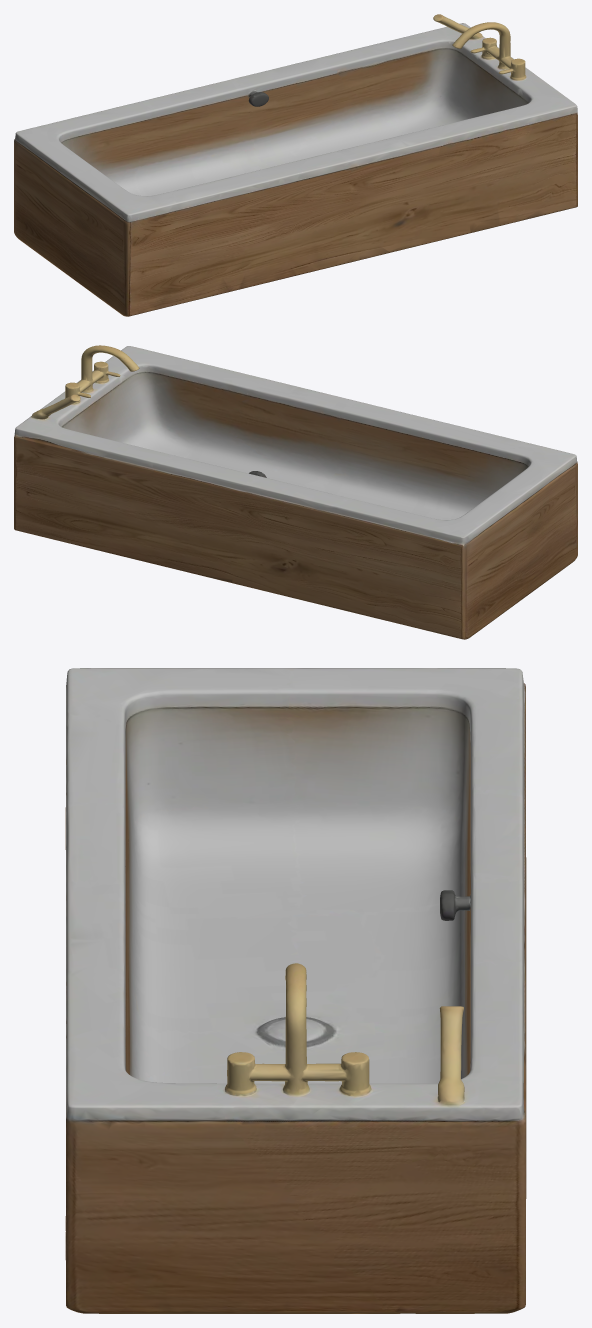
Rendered from bath.dc132078.glb.
3 views of the same model, one above another, from view 1: azimuth 30°, elevation 25°; view 2: azimuth 150°, elevation 25°; view 3: azimuth 270°, elevation 25° (orthographic). The views are drawn at different scales.
Parts seen in each view (by area): view 1: tripo_node_debad630-338a-4e0d-8b6a-e52842edcccf; view 2: tripo_node_debad630-338a-4e0d-8b6a-e52842edcccf; view 3: tripo_node_debad630-338a-4e0d-8b6a-e52842edcccf.
Boxes of the visible parts, left/top/right/bottom form: tripo_node_debad630-338a-4e0d-8b6a-e52842edcccf: left=14, top=14, right=577, bottom=316; tripo_node_debad630-338a-4e0d-8b6a-e52842edcccf: left=14, top=345, right=577, bottom=639; tripo_node_debad630-338a-4e0d-8b6a-e52842edcccf: left=65, top=668, right=526, bottom=1313.
Size of the model in its own units: 1.7 by 0.55 by 0.75.
Materials: 1 (1 with a texture image).
